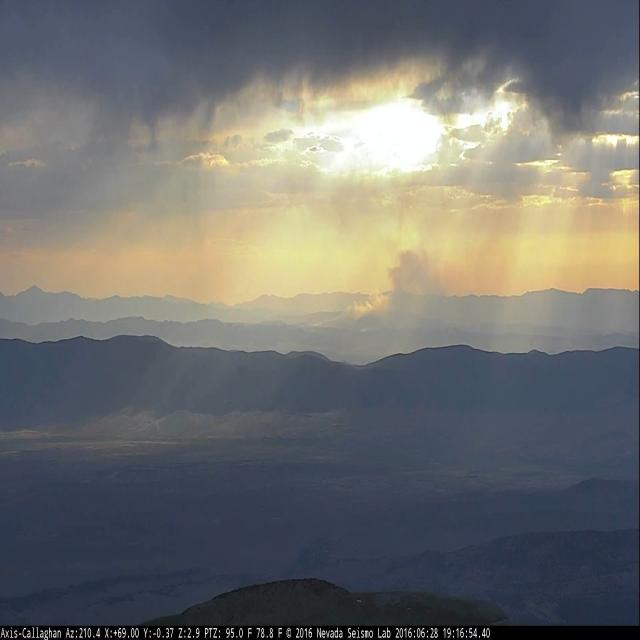smoke: (316, 244, 441, 332)
